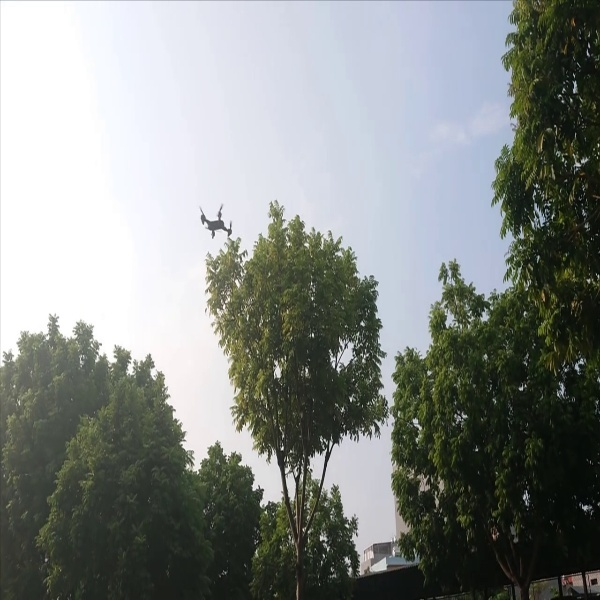drone: (193, 203, 240, 240)
